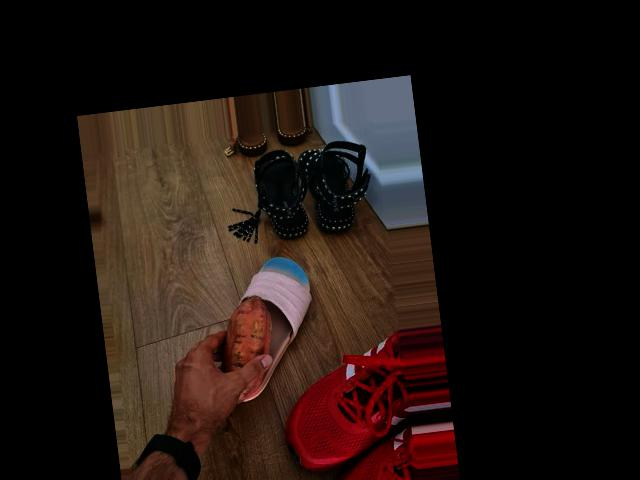sweet_potato: (215, 293, 279, 406)
